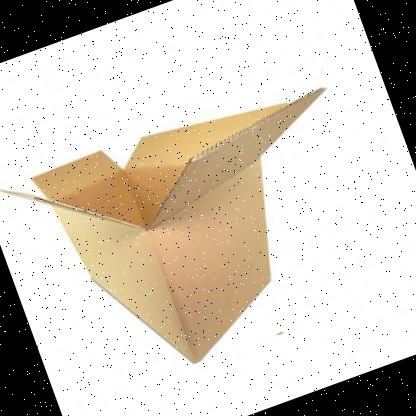opened: (1, 88, 327, 364), (1, 88, 327, 233)
